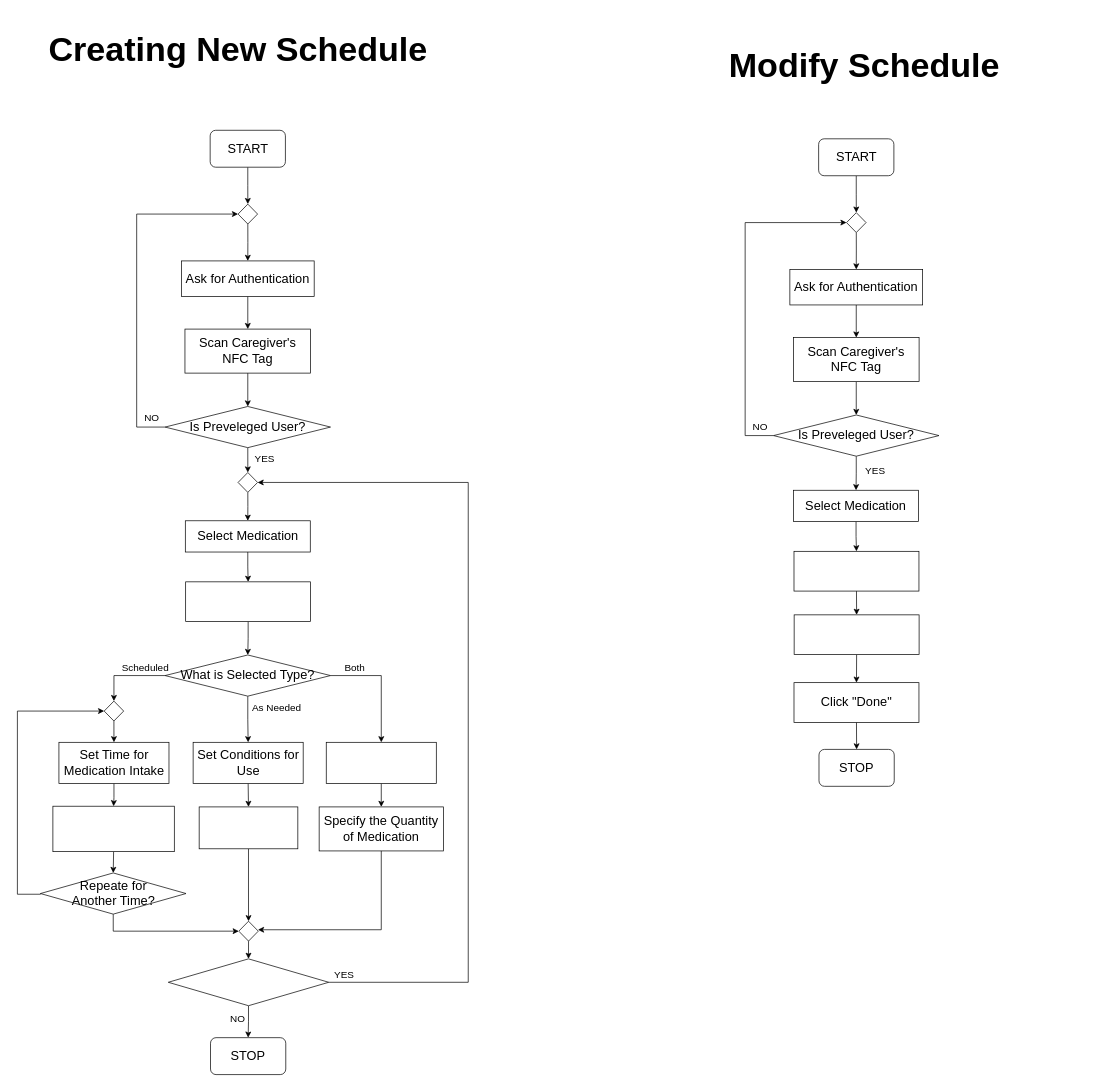
Some shapes in this 1093 by 1087 pixel diagram are drawn without their labels. Each missing label, with the centre of its shape:
Adjust Number of Pills Dispensed: pixel 856 634
Choose Administration Type: pixel 248 601
Enter Medication Amount Per Dose: pixel 113 828
Input the Dosage Amount: pixel 248 827
Repeate for Another Medicine?: pixel 248 982
Select "Schedule the Doses": pixel 856 571
Set Time and Conditions: pixel 381 762
